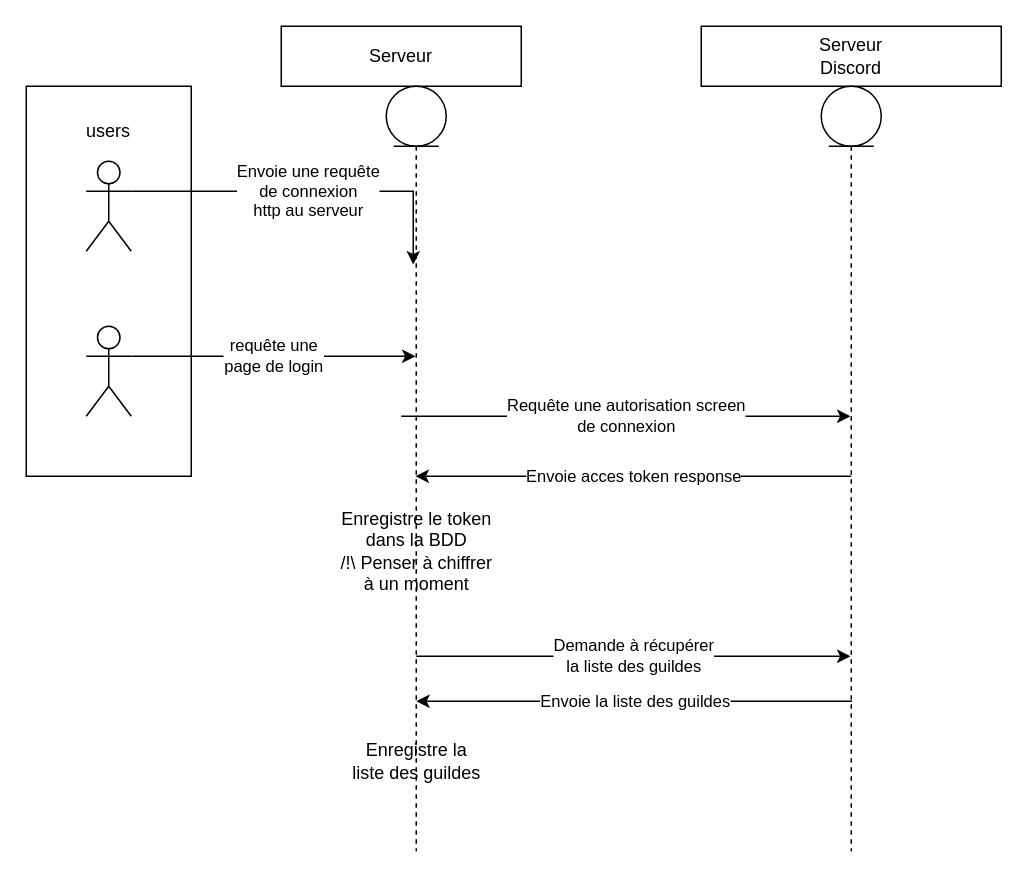
This 1028x878 diagram has some shape labels left out. The centre of each missing label's shape, as x and y in pixels:
Bot Discord: pixel 108 205
Utilisateur: pixel 108 370
